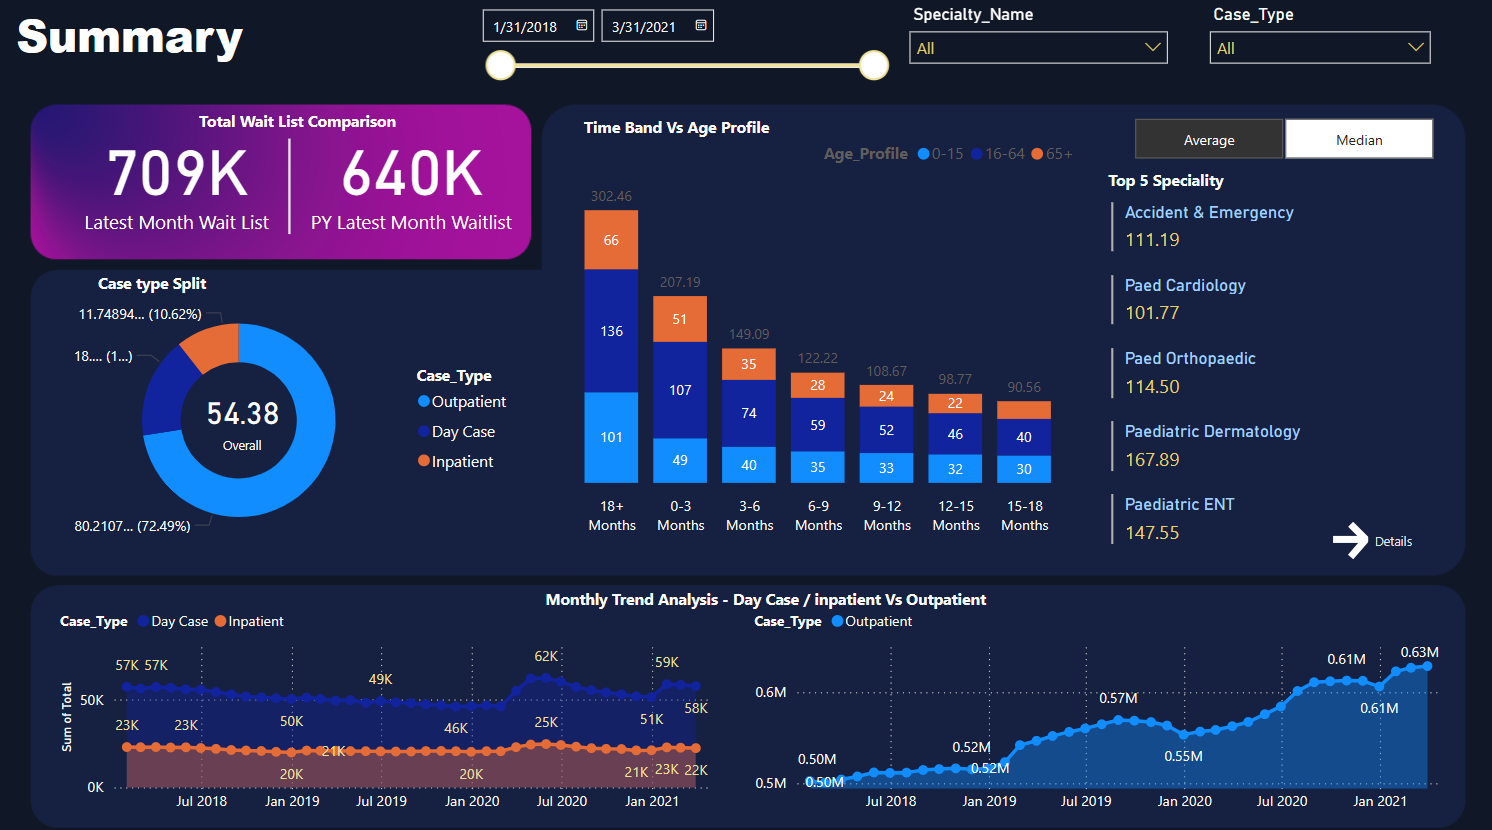

The dashboard page shown, as its layout file describes it:
{"tool":"powerbi","page":{"name":"Summary","canvas":[1280,720],"ordinal":0},"visuals":[{"type":"card","fields":{"Values":["All_Data.Latest Month Wait List"]},"box":[48,96,208,112],"z":0},{"type":"card","fields":{"Values":["All_Data.PY Latest Month Waitlist"]},"box":[256,96,192,112],"z":1000},{"type":"slicer","fields":{"Values":["Calculation Method.Calc Method"]},"box":[944,96,304,48],"z":2000},{"type":"donutChart","fields":{"Category":["All_Data.Case_Type"],"Y":["All_Data.Avg/Med Wait List"]},"box":[48,240,400,240],"z":3000},{"type":"columnChart","fields":{"Y":["All_Data.Avg/Med Wait List"],"Category":["All_Data.Time_Bands"],"Series":["All_Data.Age_Profile"]},"box":[464,112,464,352],"z":4000},{"type":"multiRowCard","fields":{"Values":["All_Data.Specialty_Name","All_Data.Avg/Med Wait List"]},"box":[944.3,168.6,287.1,384.3],"z":5000},{"type":"lineChart","fields":{"Category":["All_Data.Archive_Date"],"Y":["Sum(All_Data.Total)"],"Series":["All_Data.Case_Type"]},"box":[48,512,576,192],"z":6000},{"type":"lineChart","fields":{"Category":["All_Data.Archive_Date"],"Y":["Sum(All_Data.Total)"],"Series":["All_Data.Case_Type"]},"box":[640,512,608,192],"z":7000},{"type":"slicer","fields":{"Values":["All_Data.Archive_Date"]},"box":[400,0,368,80],"z":8000},{"type":"slicer","fields":{"Values":["All_Data.Case_Type"]},"box":[1024,0,208,80],"z":9000},{"type":"slicer","fields":{"Values":["All_Data.Specialty_Name"]},"box":[768,0,240,80],"z":10000},{"type":"textbox","box":[0,0,224,64],"z":11000},{"type":"card","fields":{"Values":["All_Data.Avg/Med Wait List"]},"box":[144,320,128,80],"z":12000},{"type":"shape","box":[128.6,120,240,81.4],"z":13000},{"type":"textbox","box":[58.6,90,357.1,30],"z":14000},{"type":"textbox","box":[0,228.6,262.9,42.9],"z":15000},{"type":"textbox","box":[400,95.7,357.1,30],"z":16000},{"type":"textbox","box":[907.1,141.4,178.6,65.7],"z":17000},{"type":"textbox","box":[405.7,498.6,501.4,30],"z":18000},{"type":"actionButton","box":[1132.9,442.9,115.7,40],"z":18001}]}

Visuals, with their boxes in screenshot pixels (x1, y1, x2, y2), scaled from the page's 1280x720 canvas onto the 1492x830 screenshot:
card - All_Data.Latest Month Wait List: left=56, top=111, right=298, bottom=240
card - All_Data.PY Latest Month Waitlist: left=298, top=111, right=522, bottom=240
slicer - Calculation Method.Calc Method: left=1100, top=111, right=1455, bottom=166
donutChart - All_Data.Case_Type x All_Data.Avg/Med Wait List: left=56, top=277, right=522, bottom=553
columnChart - All_Data.Avg/Med Wait List x All_Data.Time_Bands: left=541, top=129, right=1082, bottom=535
multiRowCard - All_Data.Specialty_Name x All_Data.Avg/Med Wait List: left=1101, top=194, right=1435, bottom=637
lineChart - All_Data.Archive_Date x Sum(All_Data.Total): left=56, top=590, right=727, bottom=812
lineChart - All_Data.Archive_Date x Sum(All_Data.Total): left=746, top=590, right=1455, bottom=812
slicer - All_Data.Archive_Date: left=466, top=0, right=895, bottom=92
slicer - All_Data.Case_Type: left=1194, top=0, right=1436, bottom=92
slicer - All_Data.Specialty_Name: left=895, top=0, right=1175, bottom=92
textbox: left=0, top=0, right=261, bottom=74
card - All_Data.Avg/Med Wait List: left=168, top=369, right=317, bottom=461
shape: left=150, top=138, right=430, bottom=232
textbox: left=68, top=104, right=485, bottom=138
textbox: left=0, top=264, right=306, bottom=313
textbox: left=466, top=110, right=882, bottom=145
textbox: left=1057, top=163, right=1266, bottom=239
textbox: left=473, top=575, right=1057, bottom=609
actionButton: left=1321, top=511, right=1455, bottom=557
